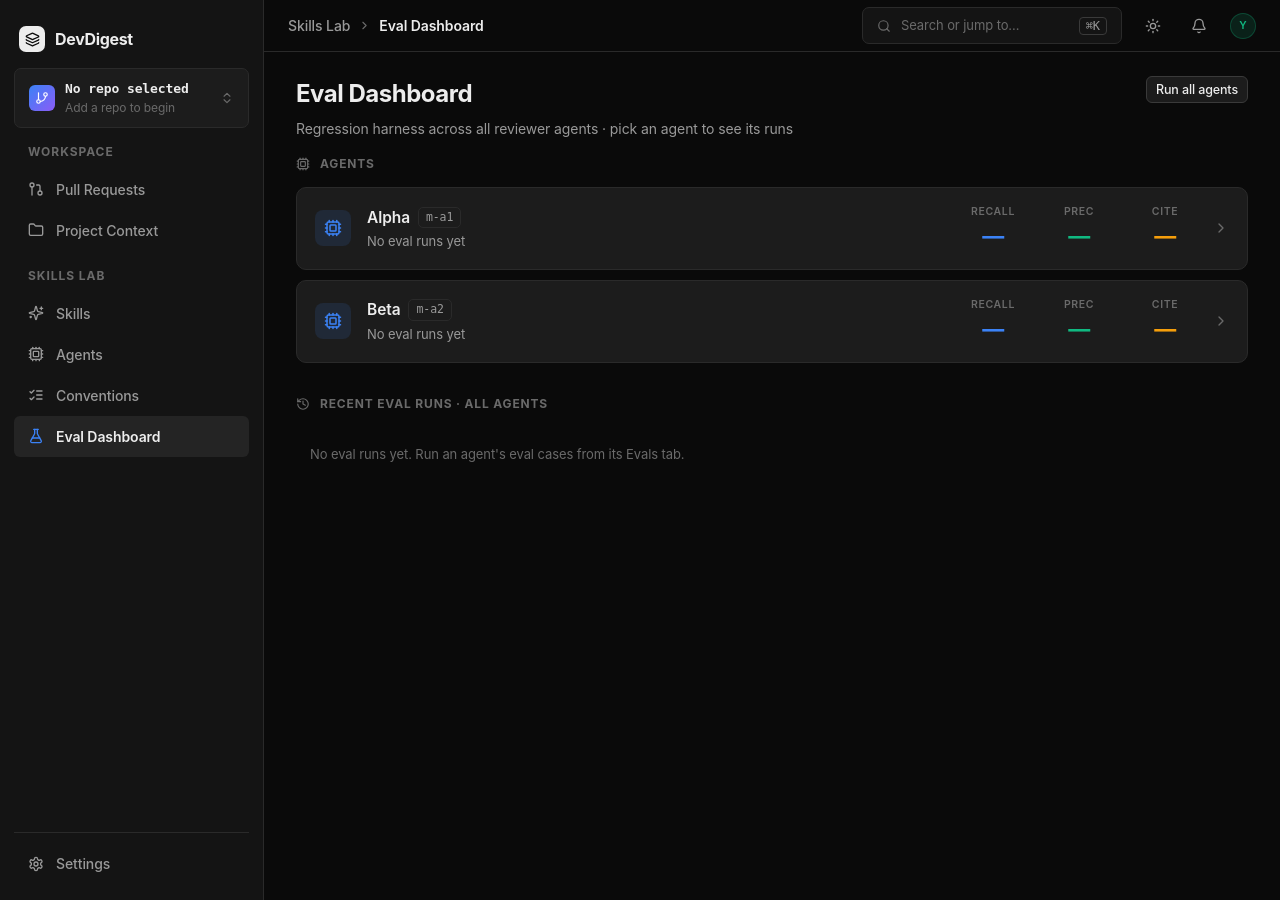
Test: EvalDashboard › Run all agents › starts a run for each eligible agent on confirm and shows each outcome (AC-76, AC-77)
This screenshot has width=1280, height=900.
Check: the text "m-a1" is shown, box [418,206,461,228]
Click the button "Run all agents" at point(1197, 90), box [1146,76,1248,103]
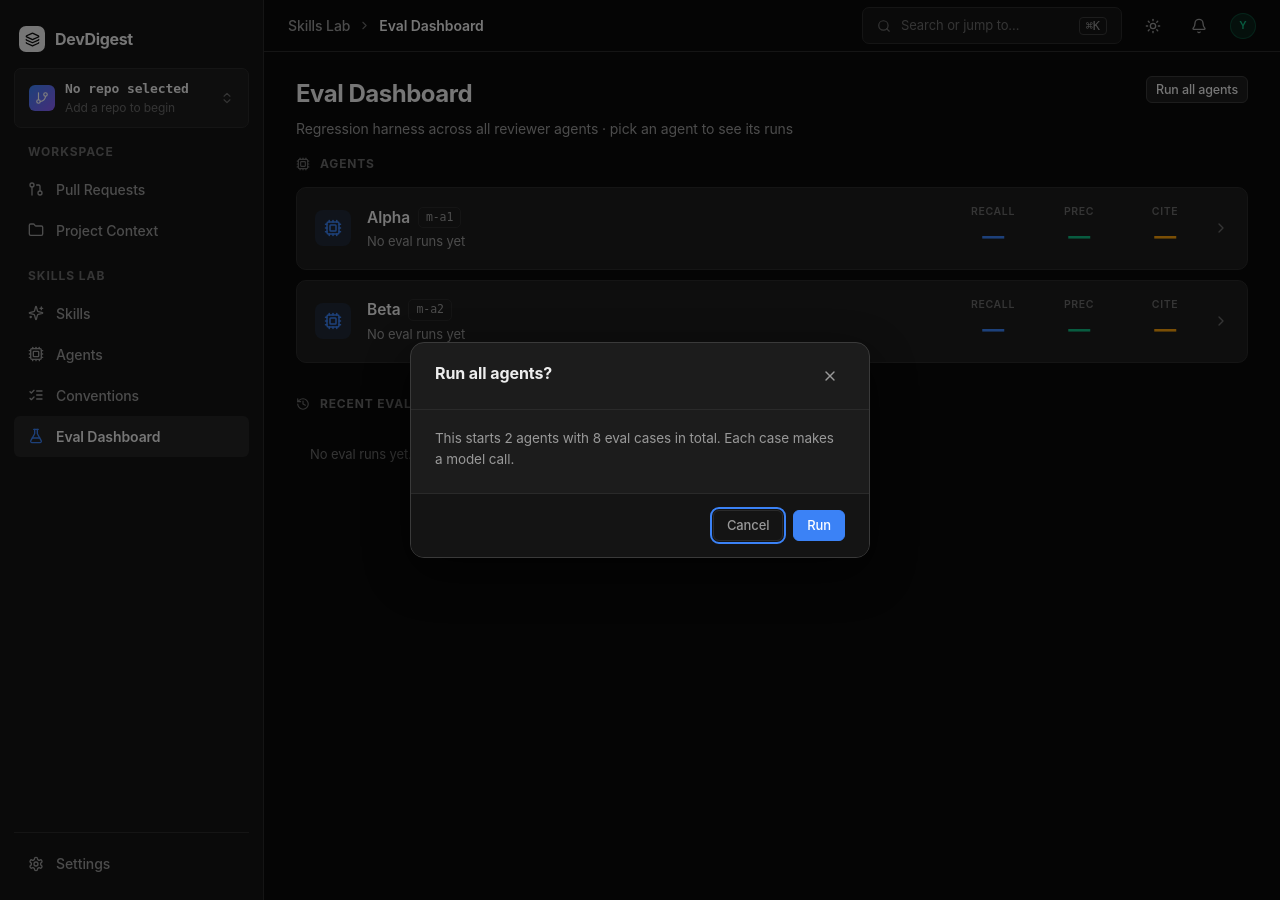
Click the button "Run" at point(819, 526), box [793,510,845,541]
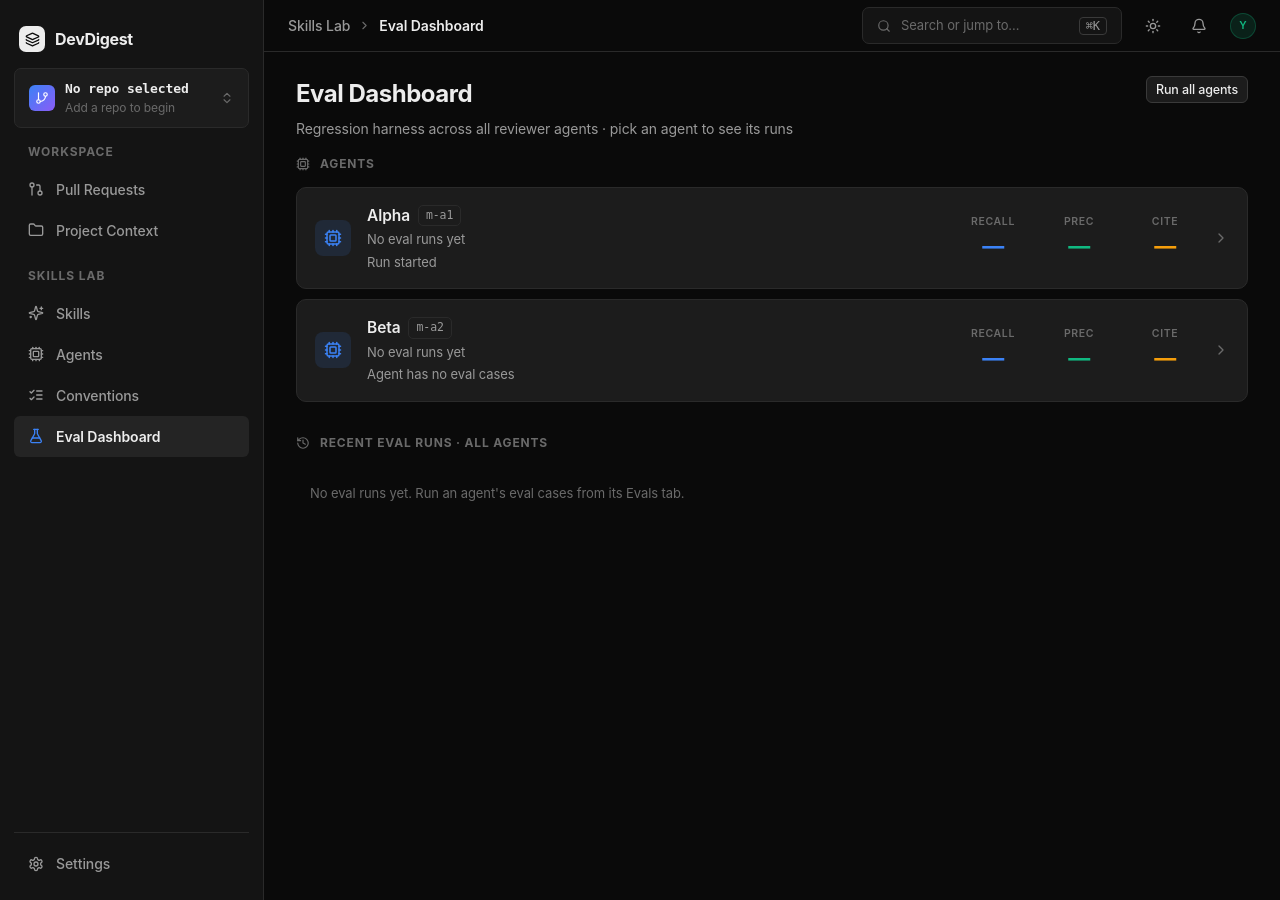
Check: the text "Run started" is shown, box [367,254,437,270]
Check: the text "Agent has no eval cases" is shown, box [367,366,514,382]
Check: the dialog is gone
